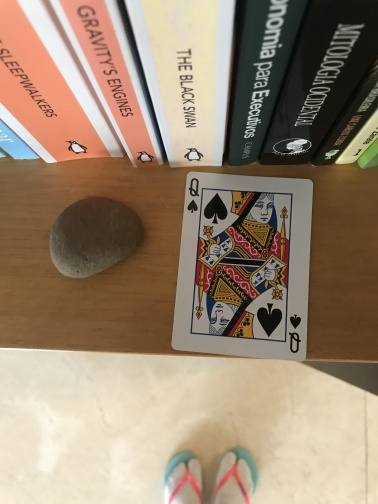queen: (170, 171, 315, 362)
